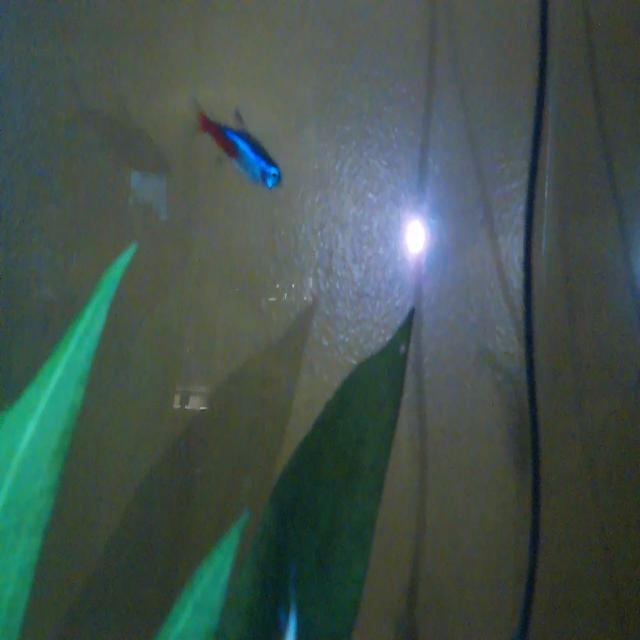fish: (192, 86, 286, 202)
